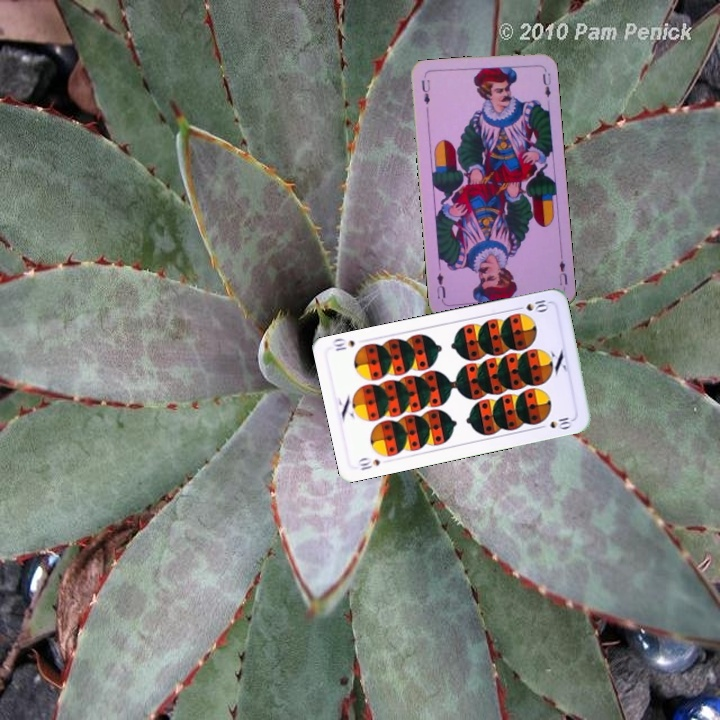EU: (555, 253, 570, 293), (418, 76, 433, 107)
S10: (511, 295, 551, 315), (354, 453, 383, 473)
